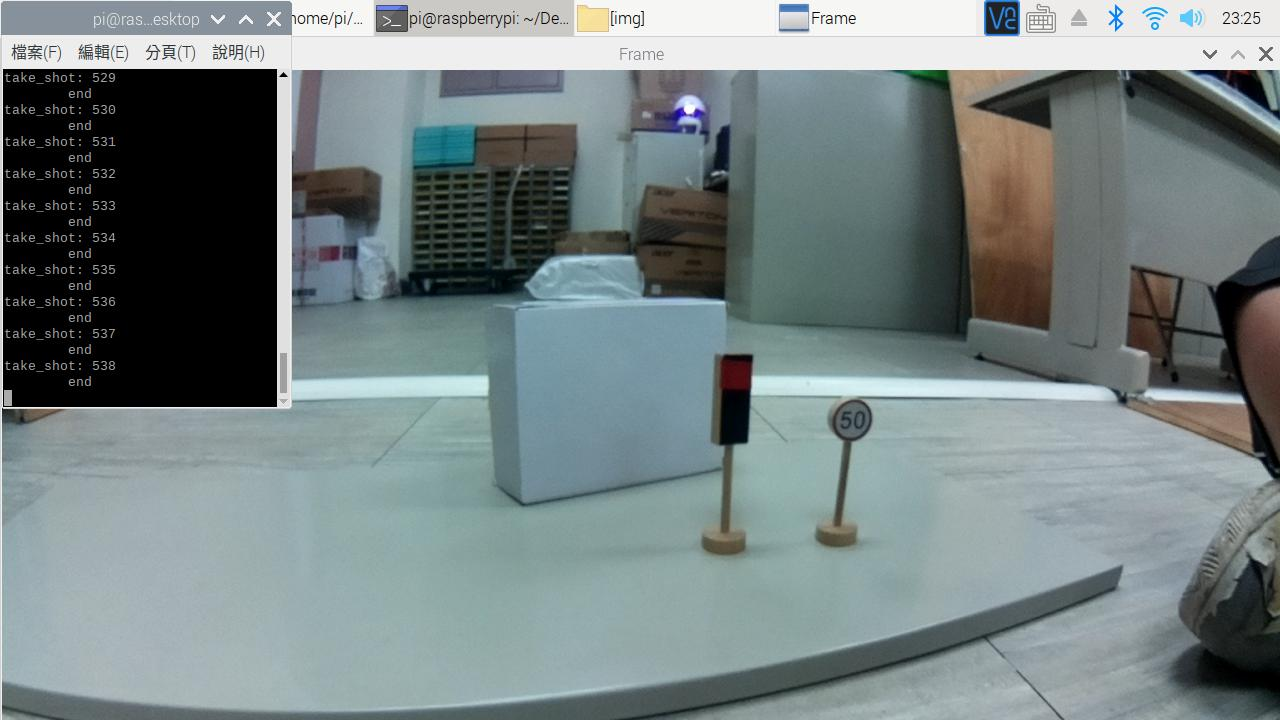Red: (709, 347, 763, 457)
Speed50: (813, 392, 877, 449)
